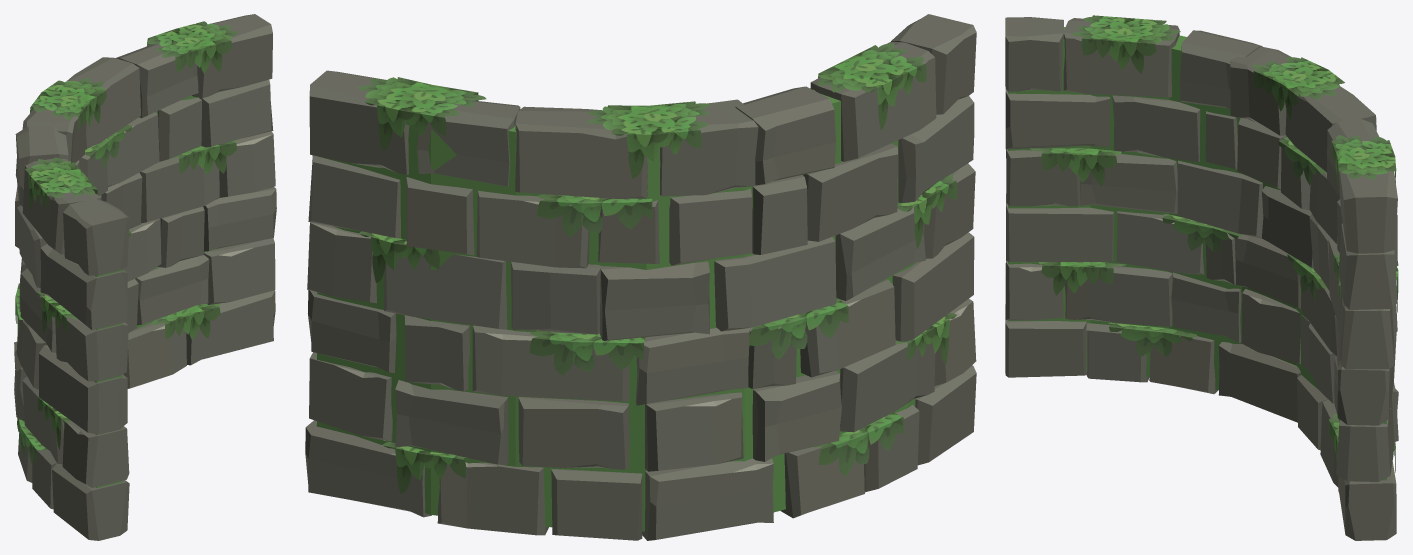
File: quaternius-ultimate-modular-ruins-curve-1-overgrown.glb
The picture shows the model from 3 angles, left to right: view 1: azimuth 30°, elevation 25°; view 2: azimuth 150°, elevation 25°; view 3: azimuth 270°, elevation 25°; orthographic projection. The views are drawn at different scales.
Parts seen in each view (by area): view 1: Curve_1_Overgrown; view 2: Curve_1_Overgrown; view 3: Curve_1_Overgrown.
Part boxes in pixels (x1,y1,x2,y2): Curve_1_Overgrown: (14, 14, 276, 540); Curve_1_Overgrown: (305, 14, 976, 540); Curve_1_Overgrown: (1005, 15, 1398, 540).
Bounding box in the file's own units: 2.3 × 2 × 2.07.
4 materials, 1 textured.
